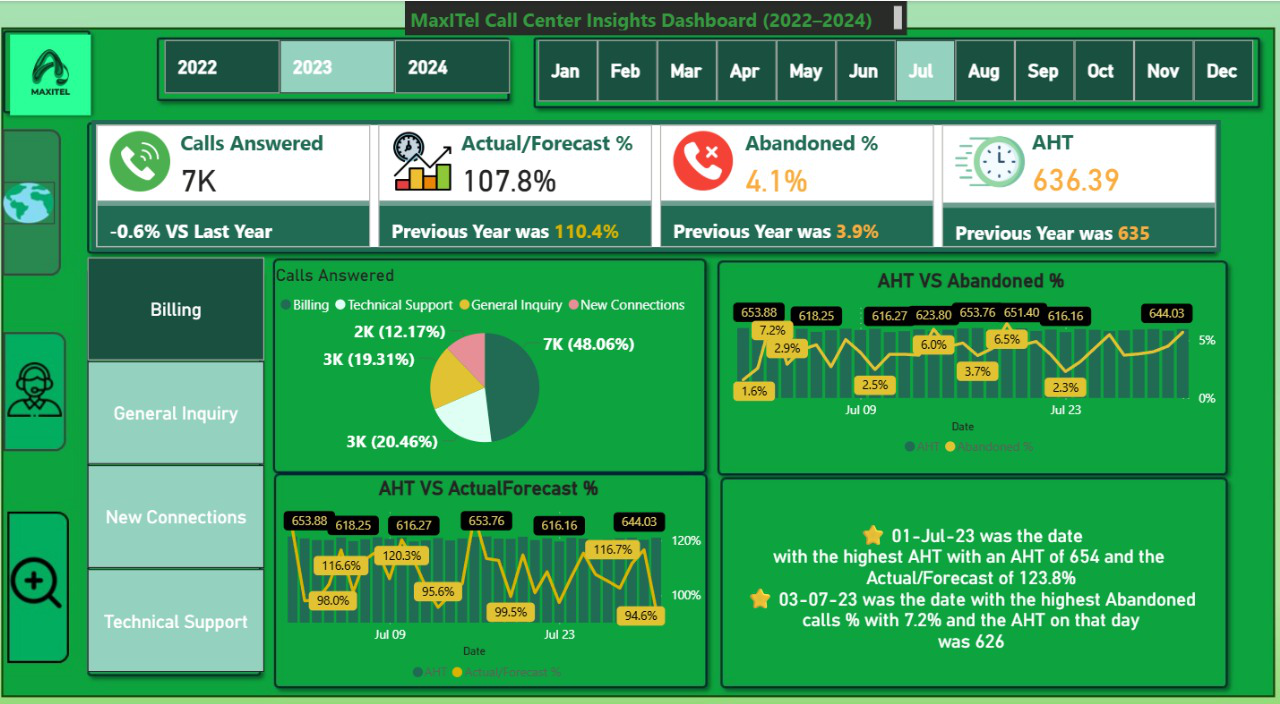

What the dashboard file says about the page in this screenshot:
{"tool":"powerbi","page":{"name":"Global View","canvas":[1280,720],"ordinal":0},"visuals":[{"type":"cardVisual","fields":{"Data":["_Measures.Calls Answered","_Measures.Actual/Forecast","_Measures.Abandoned %","_Measures.AHT"]},"box":[97.2,117.9,1118.3,131.3],"z":0},{"type":"advancedSlicerVisual","fields":{"Values":["Calendar.Year"]},"box":[165.3,34,352.5,63.2],"z":1000},{"type":"advancedSlicerVisual","fields":{"Values":["Calendar.Month Name"]},"box":[534.9,34,726.9,71.7],"z":2000},{"type":"advancedSlicerVisual","fields":{"Values":["Departments.Department Name"]},"box":[88.7,249.2,186,423],"z":3000},{"type":"pieChart","title":"Calls Answered ","fields":{"Category":["Departments.Department Name"],"Y":["_Measures.Calls Answered"]},"box":[274.7,261.3,424.2,195.7],"z":4000},{"type":"lineClusteredColumnComboChart","title":"AHT VS  Abandoned %","fields":{"Y2":["_Measures.Abandoned %"],"Y":["_Measures.AHT"],"Category":["Calendar.Date"]},"box":[720.8,266.2,494.7,194.5],"z":5000},{"type":"lineClusteredColumnComboChart","title":"AHT VS  ActualForecast %","fields":{"Y":["_Measures.AHT"],"Y2":["_Measures.Actual/Forecast %"],"Category":["Calendar.Date"]},"box":[274.7,471.6,431.5,211.5],"z":6000},{"type":"card","fields":{"Values":["_Measures.Caption - Global view"]},"box":[720.8,487.4,494.7,184.8],"z":7000},{"type":"image","box":[0,28,114.3,90],"z":8000},{"type":"actionButton","box":[13.4,499.6,62,158],"z":9000},{"type":"actionButton","box":[13.1,324.5,62.5,120.9],"z":10000},{"type":"textbox","box":[408.2,0,496.9,34.3],"z":11000}]}

Visuals, with their boxes in screenshot pixels (x1, y1, x2, y2), scaled from the page's 1280x720 canvas onto the 1280x704 screenshot:
cardVisual - _Measures.Calls Answered x _Measures.Actual/Forecast: [97, 115, 1216, 244]
advancedSlicerVisual - Calendar.Year: [165, 33, 518, 95]
advancedSlicerVisual - Calendar.Month Name: [535, 33, 1262, 103]
advancedSlicerVisual - Departments.Department Name: [89, 244, 275, 657]
"Calls Answered " pieChart: [275, 255, 699, 447]
"AHT VS  Abandoned %" lineClusteredColumnComboChart: [721, 260, 1216, 450]
"AHT VS  ActualForecast %" lineClusteredColumnComboChart: [275, 461, 706, 668]
card - _Measures.Caption - Global view: [721, 477, 1216, 657]
image: [0, 27, 114, 115]
actionButton: [13, 488, 75, 643]
actionButton: [13, 317, 76, 436]
textbox: [408, 0, 905, 34]
